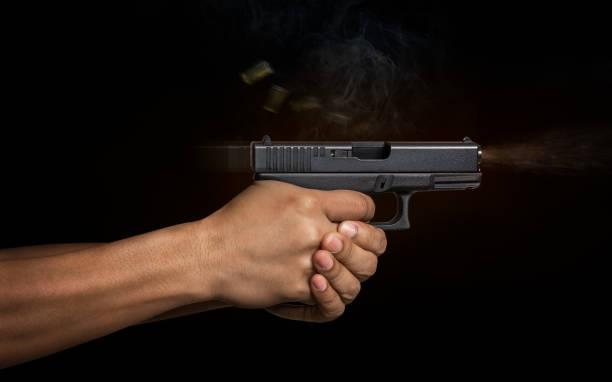weapon: (243, 132, 483, 277)
